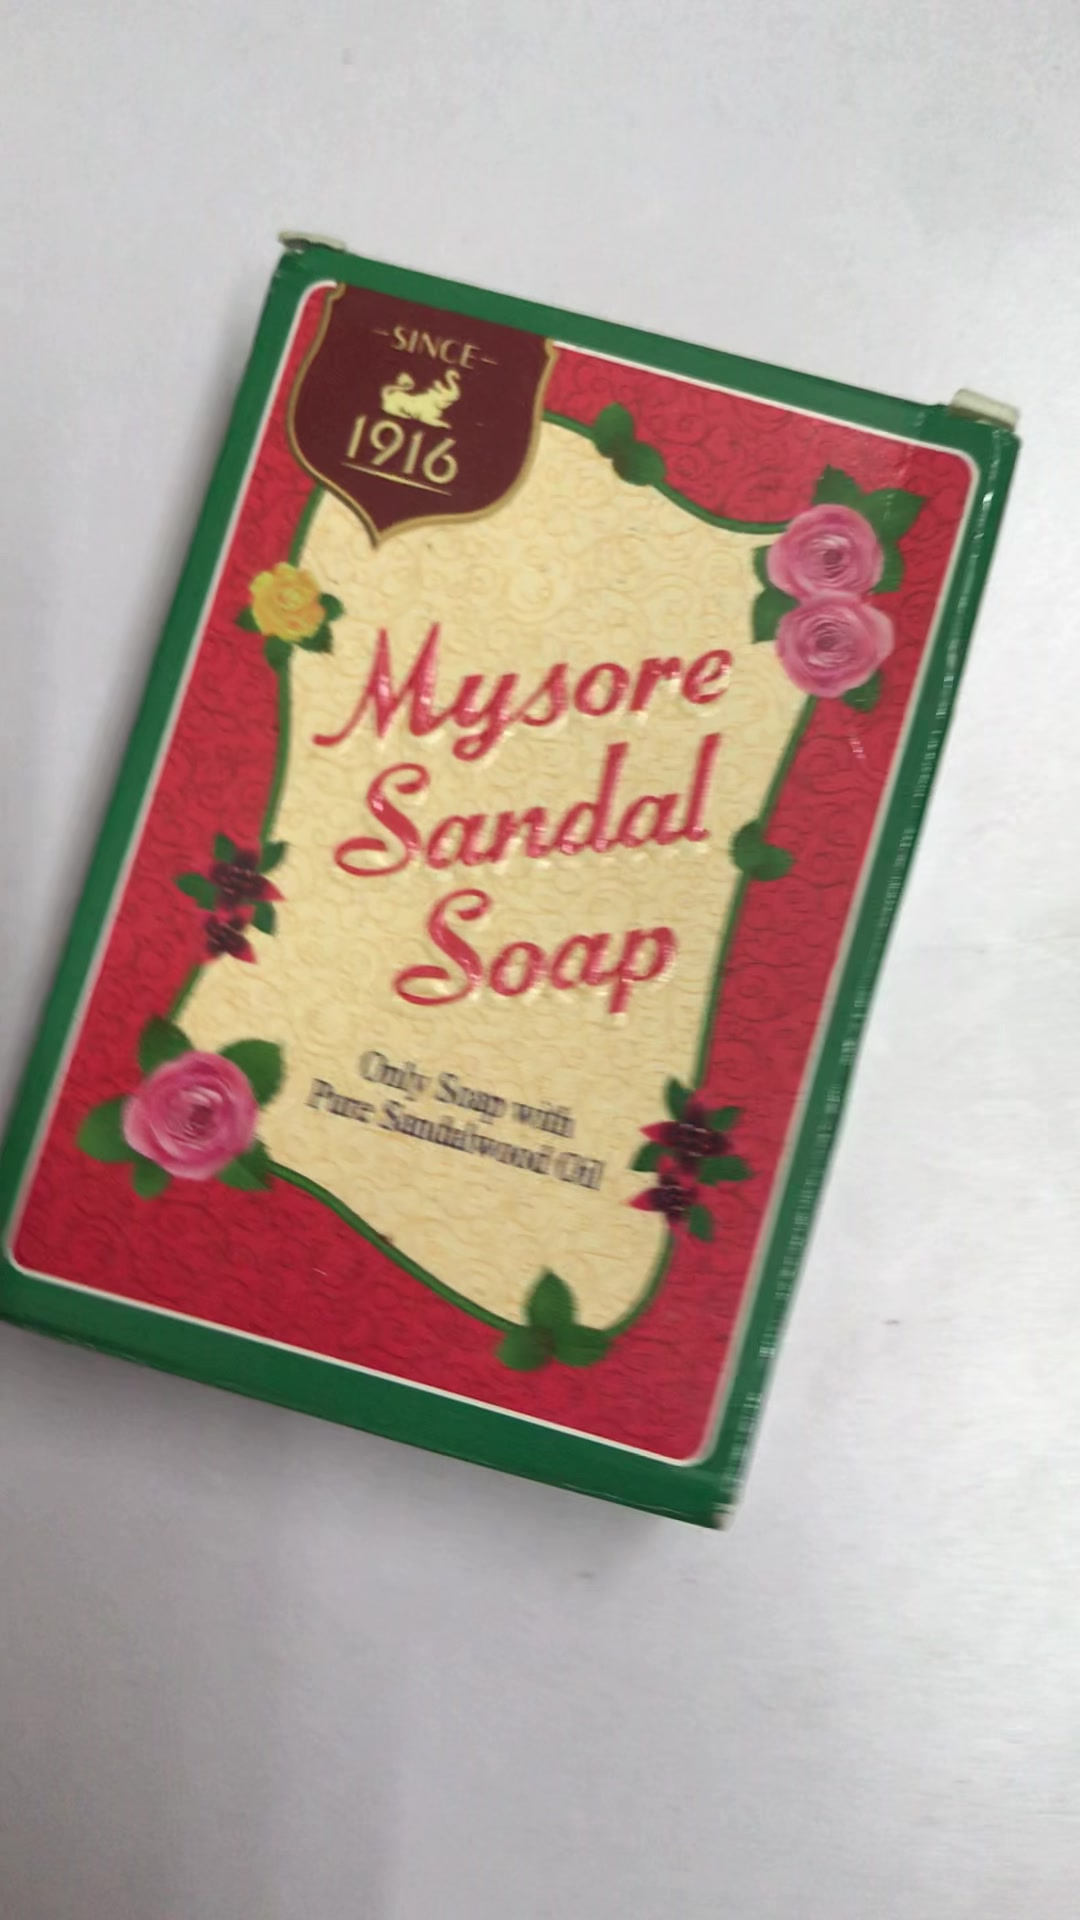mysore sandal soap: (3, 231, 1013, 1534)
